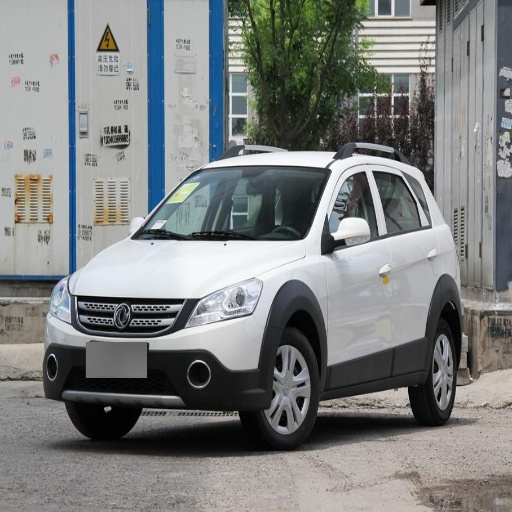front_bumper: (43, 294, 269, 413)
front_glass: (132, 170, 329, 239)
front_left_door: (323, 165, 392, 386)
